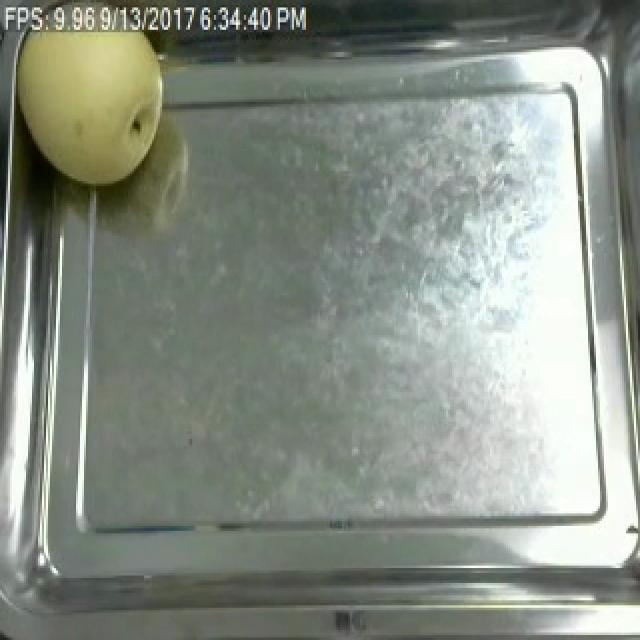Fruit: (12, 5, 176, 191)
